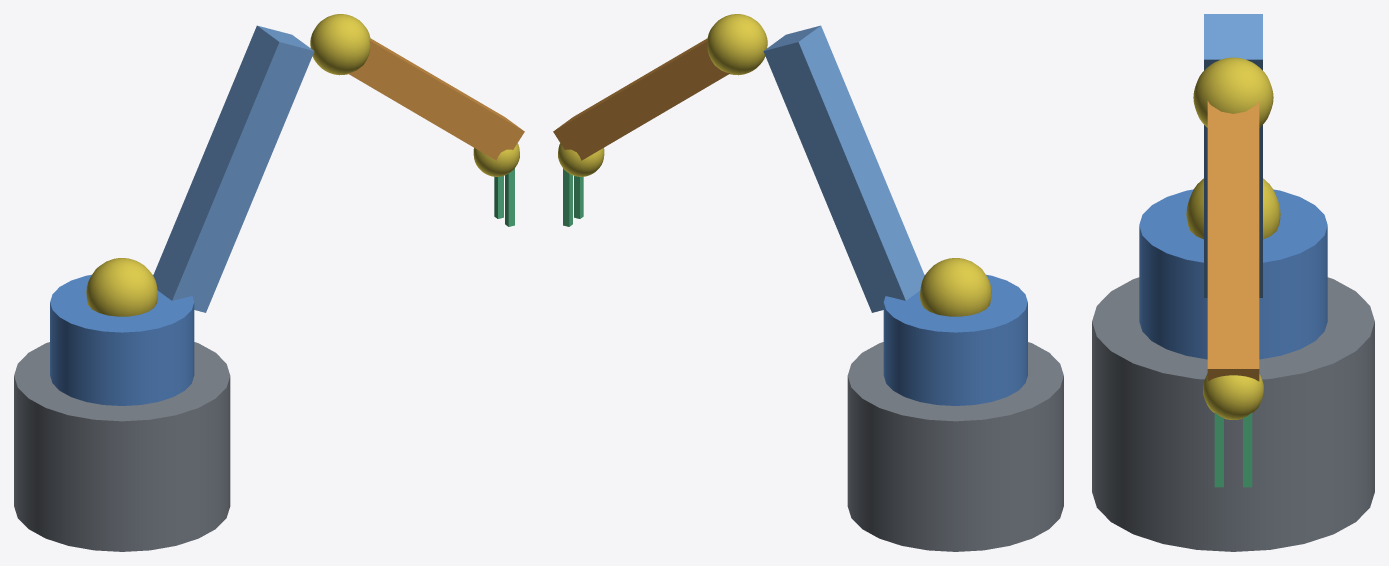
File: robot_arm.glb
3 views of the same model, side by side, from view 1: azimuth 30°, elevation 25°; view 2: azimuth 150°, elevation 25°; view 3: azimuth 270°, elevation 25° (orthographic). The views are drawn at different scales.
Size of the model in its own units: 3.13 by 2.67 by 1.2.
